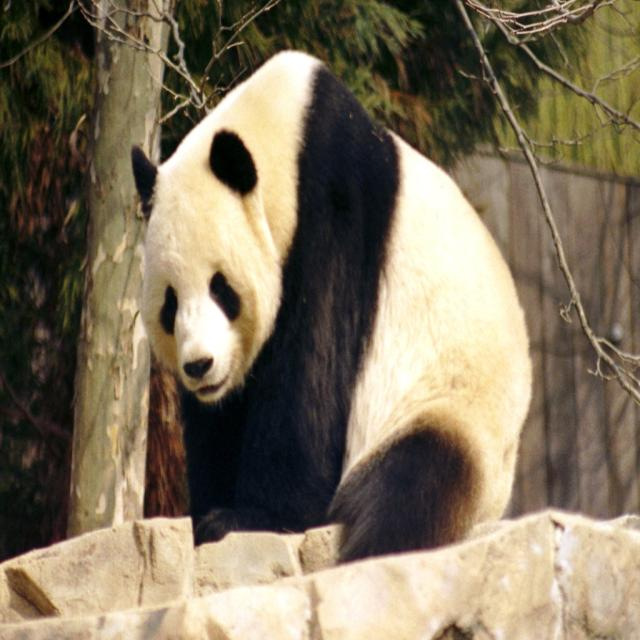panda: (130, 48, 533, 559)
